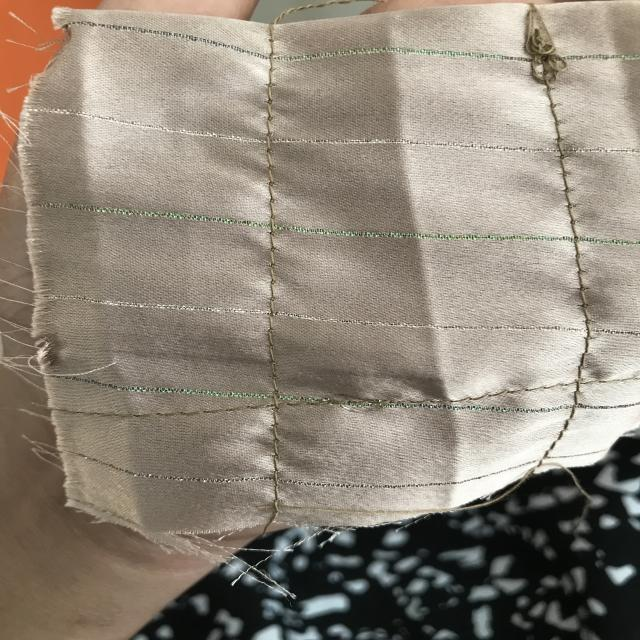good: (247, 144, 291, 217), (258, 319, 292, 396), (556, 164, 584, 236), (260, 246, 288, 298), (258, 71, 284, 124)
